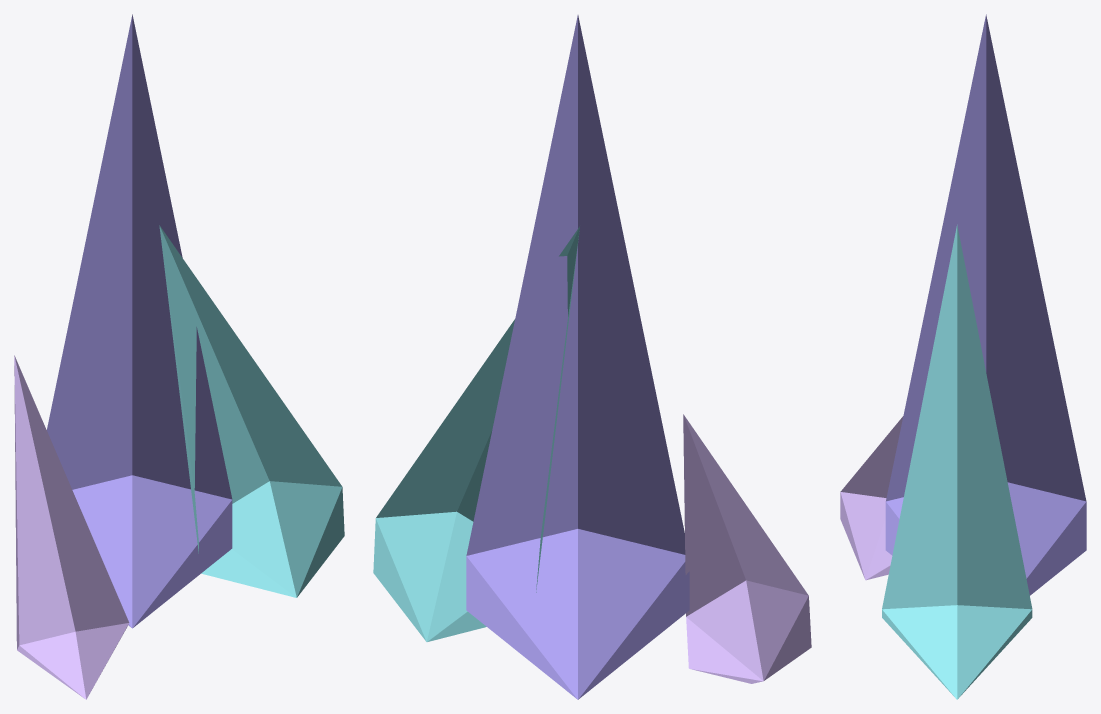
The model's file is crystal_cluster.glb.
The picture shows the model from 3 angles, left to right: view 1: azimuth 30°, elevation 25°; view 2: azimuth 150°, elevation 25°; view 3: azimuth 270°, elevation 25°; orthographic projection. The views are drawn at different scales.
Parts seen in each view (by area): view 1: crystal-main, crystal-side, crystal-shoot; view 2: crystal-main, crystal-side, crystal-shoot; view 3: crystal-main, crystal-side, crystal-shoot.
Boxes of the visible parts, bbox=[...] form: crystal-main: bbox=[47, 14, 232, 628]; crystal-side: bbox=[159, 225, 344, 597]; crystal-shoot: bbox=[14, 355, 129, 699]; crystal-main: bbox=[466, 15, 689, 699]; crystal-side: bbox=[373, 226, 579, 641]; crystal-shoot: bbox=[683, 414, 811, 683]; crystal-main: bbox=[885, 14, 1086, 595]; crystal-side: bbox=[882, 224, 1032, 699]; crystal-shoot: bbox=[840, 416, 903, 580].
Bounding box in the file's own units: 0.5731 × 0.9422 × 0.3397.
